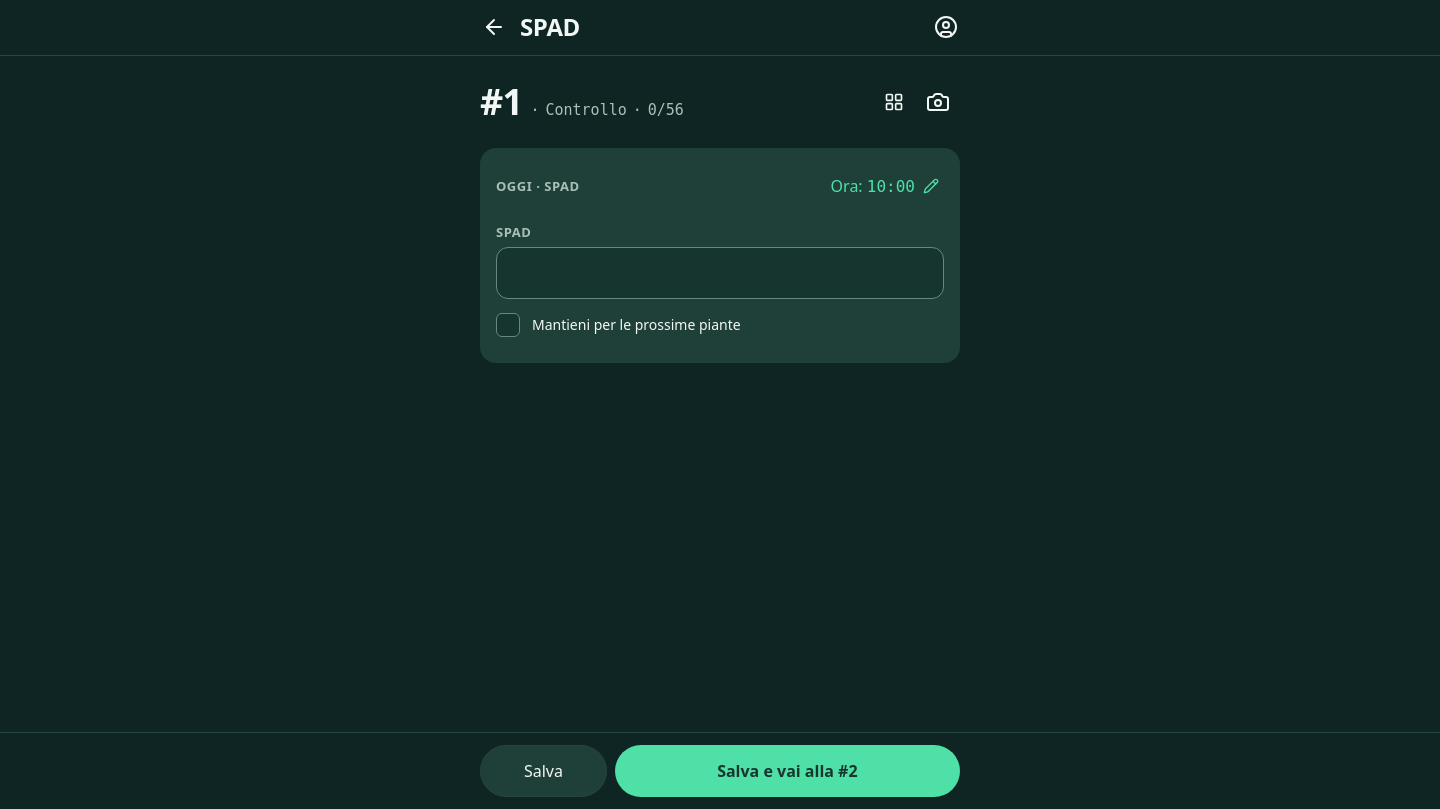
it: MisuraPianta: il giro › c'è anche "Salva", che resta sulla pianta
The image size is (1440, 809).
In the field labelled "SPAD": {"x": 720, "y": 273} [496, 247, 944, 299], type "41"
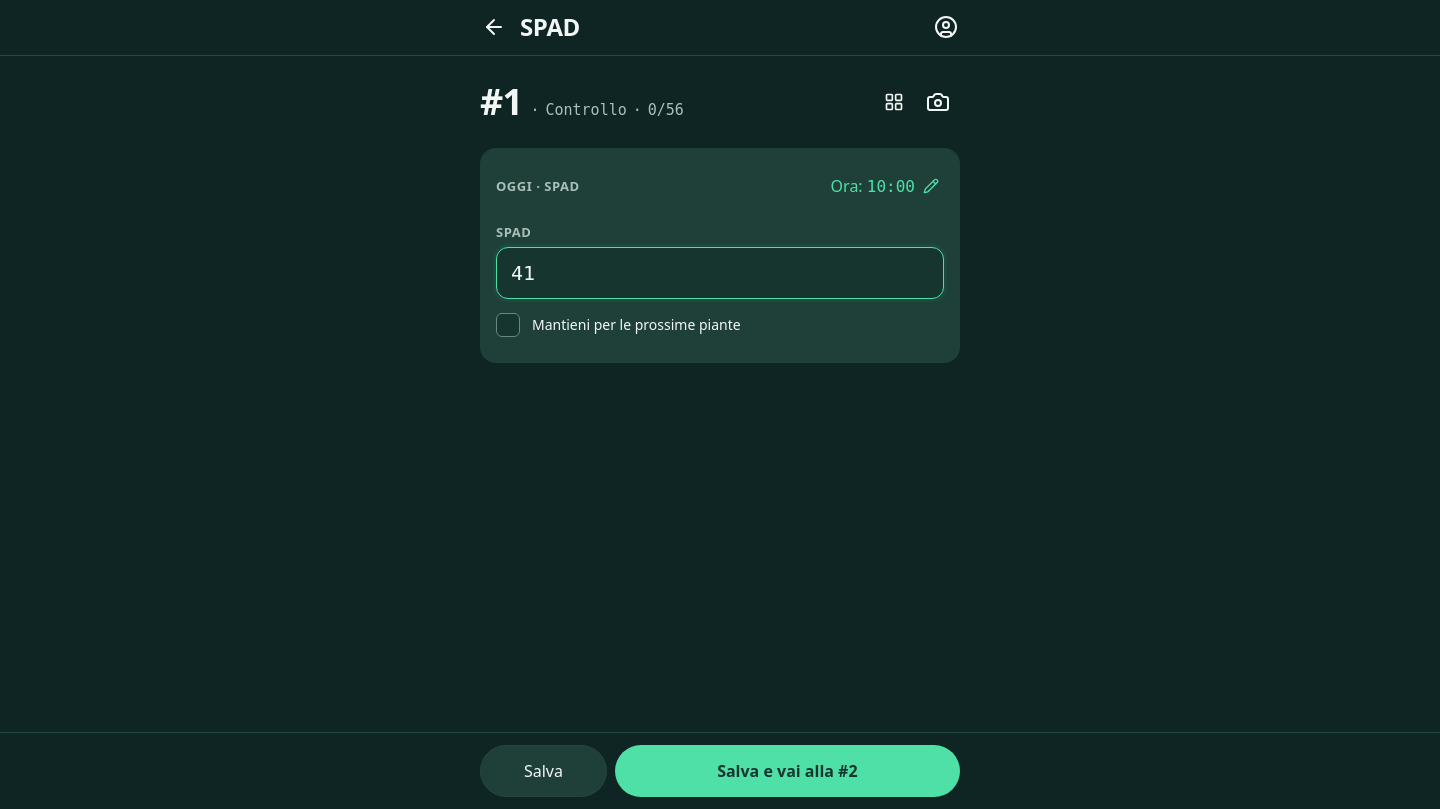
Click the button "Salva": {"x": 543, "y": 771} [480, 745, 607, 797]
(page scrolled)
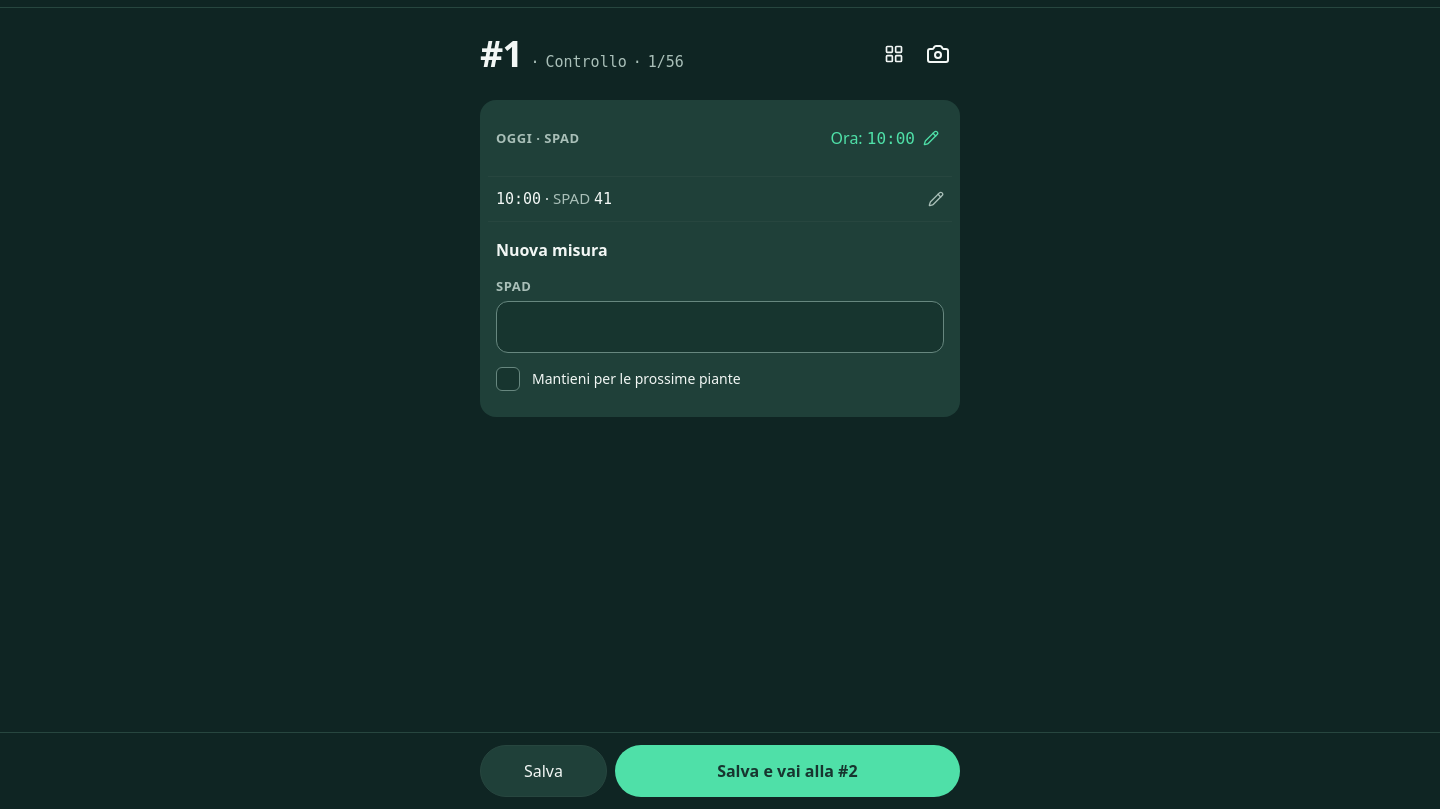
Expected: the button "10:00 · SPAD 41" is shown, [488, 177, 952, 221]
